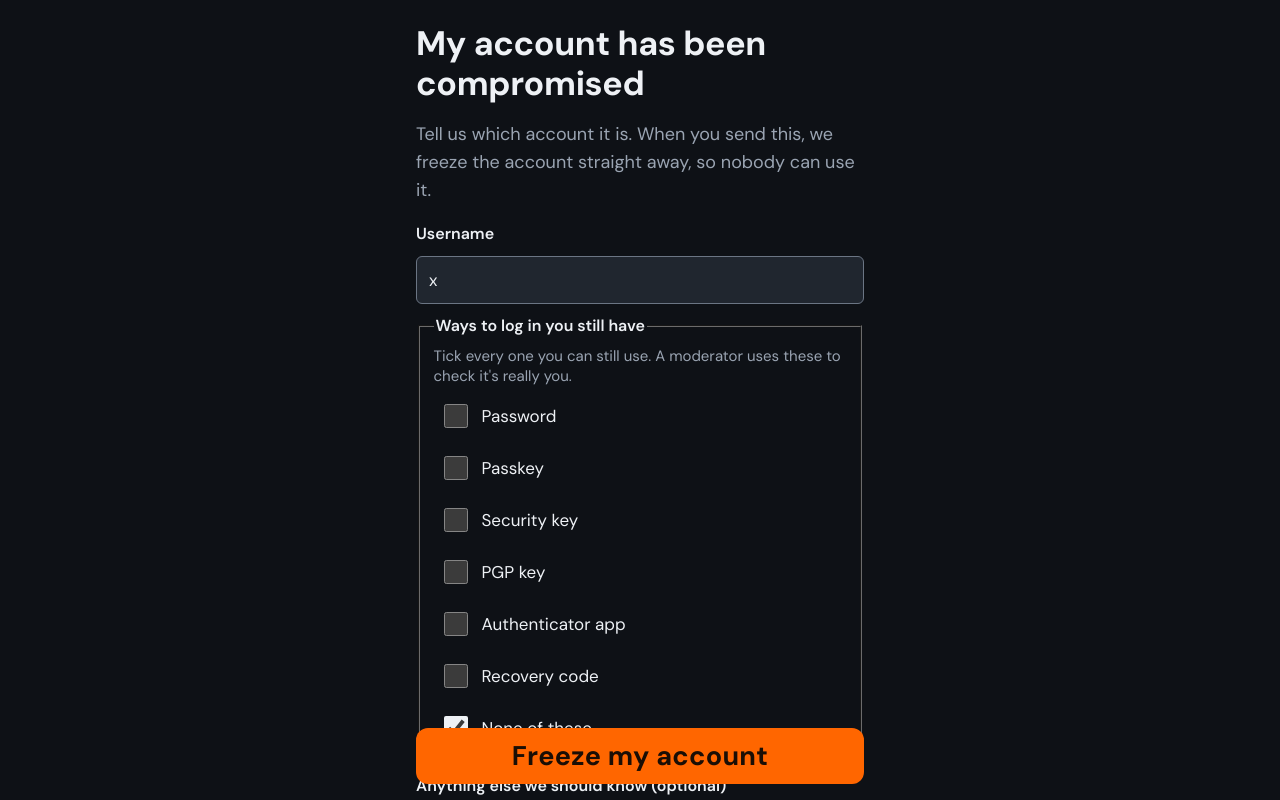
Test case: "My account has been compromised" (D-059) › a busy form or the daily cap is a CantDoThat; anything else is a fault, and the step stays
Earlier steps of the test are not shown.
Click the button "Freeze my account". click: (640, 756)
box: left=416, top=728, right=864, bottom=784
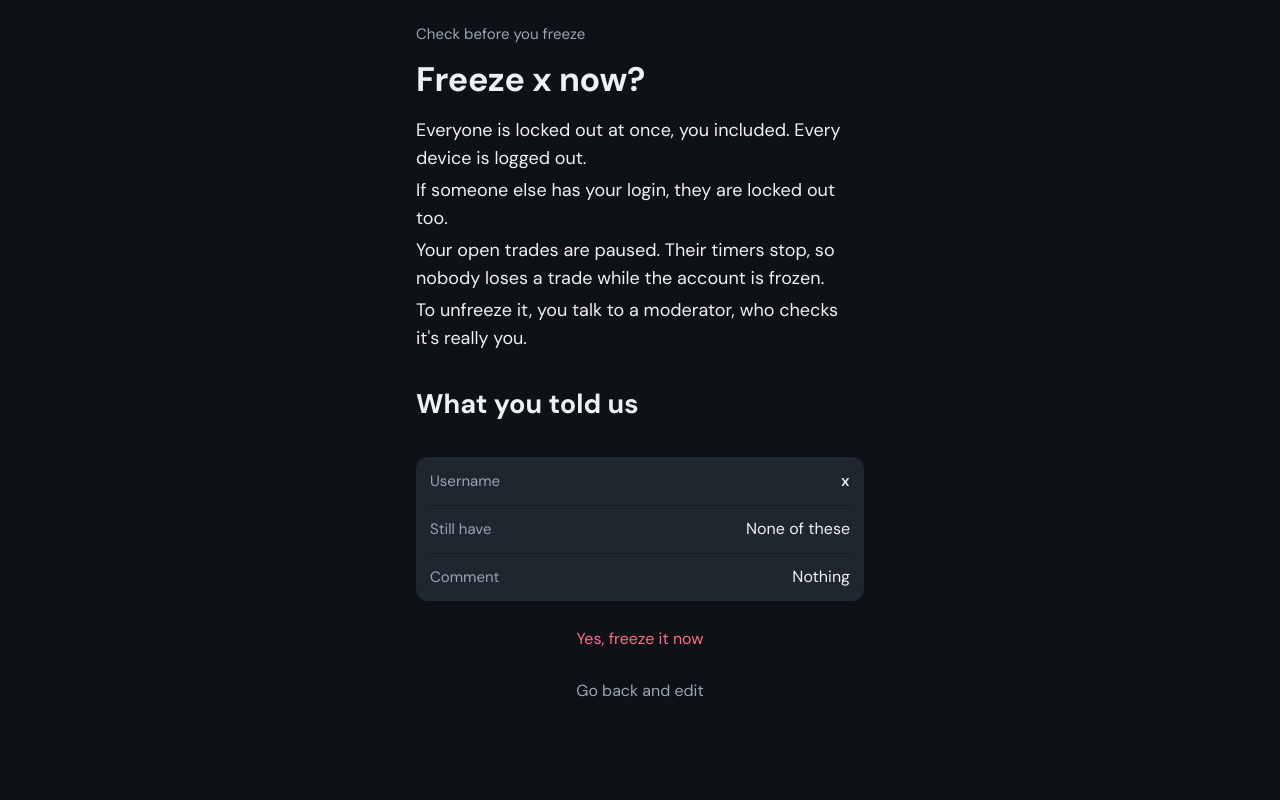
Click the button "Yes, freeze it now". click: (640, 639)
box: left=416, top=617, right=864, bottom=661
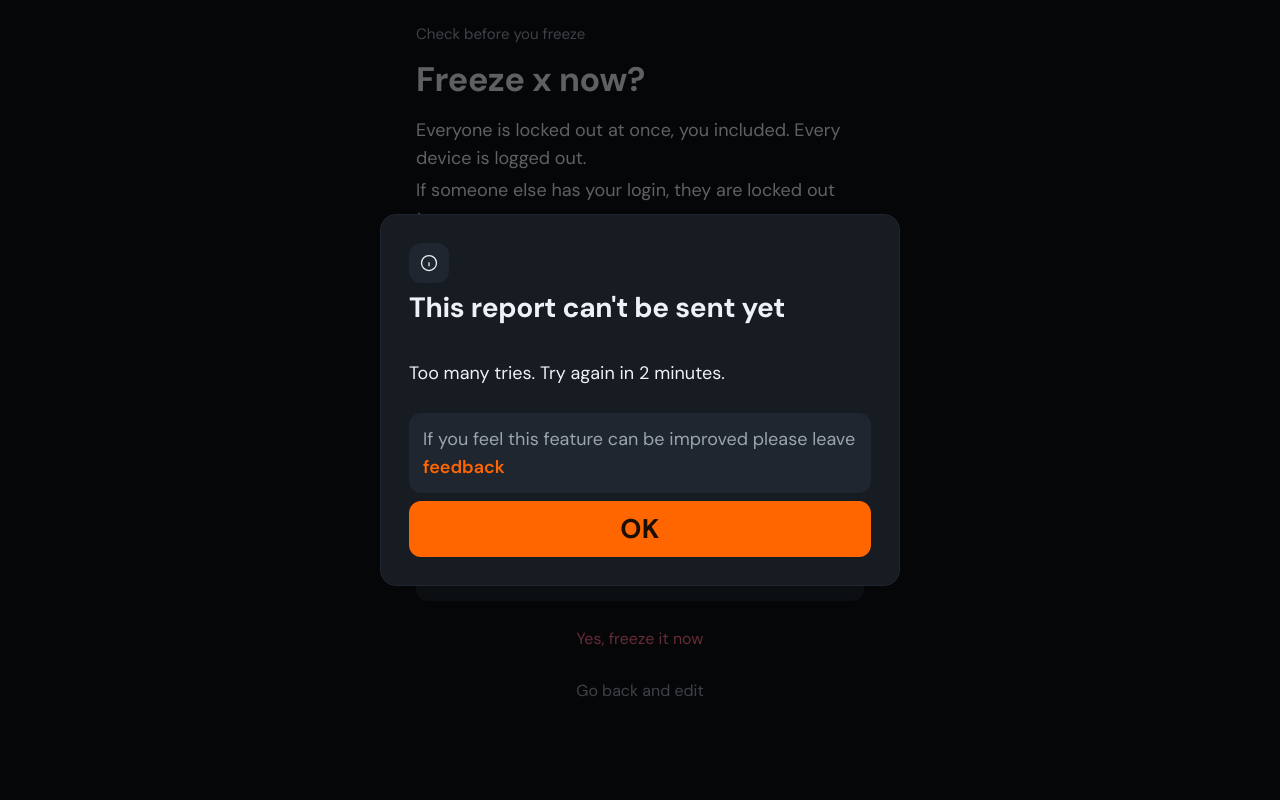
Expected: the text "This report can't be sent yet" is shown, left=409, top=291, right=785, bottom=325
Expected: the element that starts with "Too many tries. Try again in 2 minutes." is shown, left=409, top=361, right=725, bottom=385
Click the button "OK". click: (640, 529)
box: left=409, top=501, right=871, bottom=557
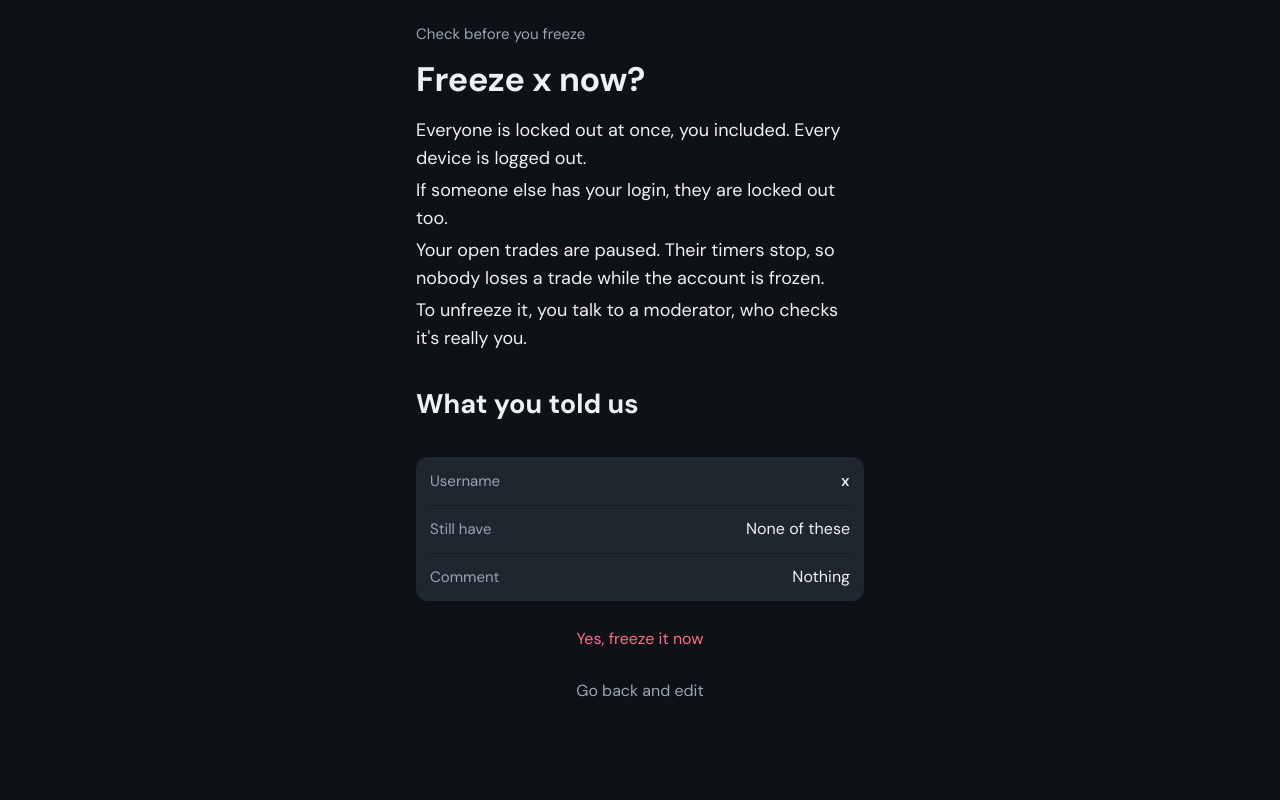
Click the button "Yes, freeze it now". click: (640, 639)
box: left=416, top=617, right=864, bottom=661
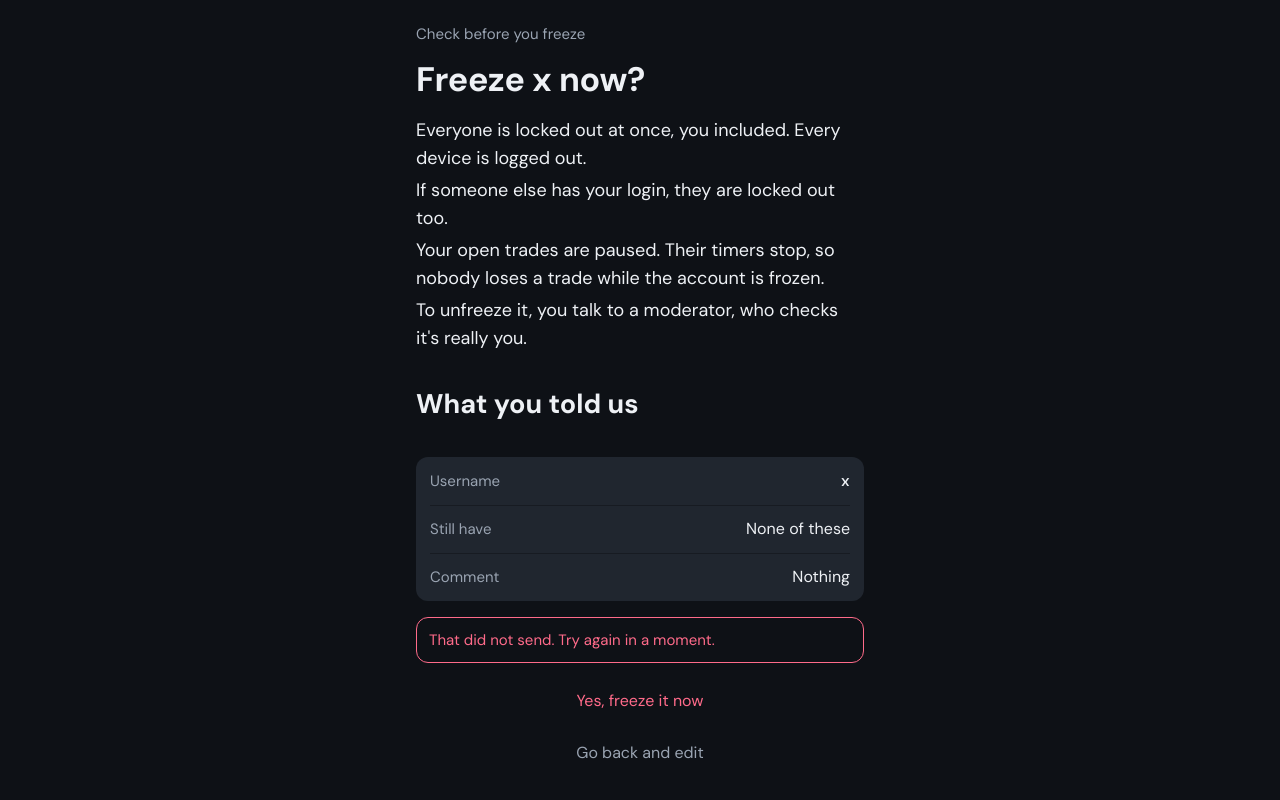
Expected: the message "That did not send. Try again in a moment." is shown, left=416, top=617, right=864, bottom=663
